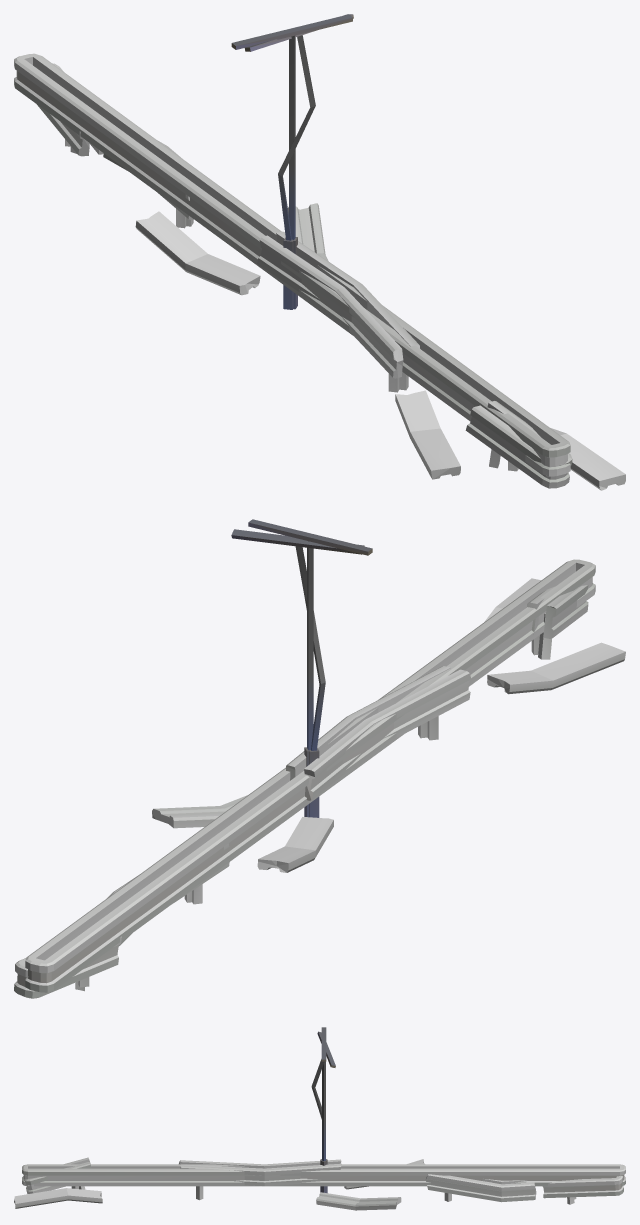
File: MiddleRail2.fbx
The picture shows the model from 3 angles, top to bottom: view 1: azimuth 30°, elevation 25°; view 2: azimuth 150°, elevation 25°; view 3: azimuth 270°, elevation 25°; orthographic projection. The views are drawn at different scales.
Parts seen in each view (by area): view 1: MiddleRail2, MiddleRail2_dead; view 2: MiddleRail2, MiddleRail2_dead; view 3: MiddleRail2, MiddleRail2_dead.
Boxes of the visible parts, x1,y1,x2,y2 form: MiddleRail2: (14, 14, 570, 476); MiddleRail2_dead: (37, 14, 625, 490); MiddleRail2: (25, 519, 595, 992); MiddleRail2_dead: (14, 529, 625, 998); MiddleRail2: (22, 1027, 625, 1200); MiddleRail2_dead: (14, 1031, 623, 1210).
Bounding box in the file's own units: 6.39 × 9.9 × 34.45.
